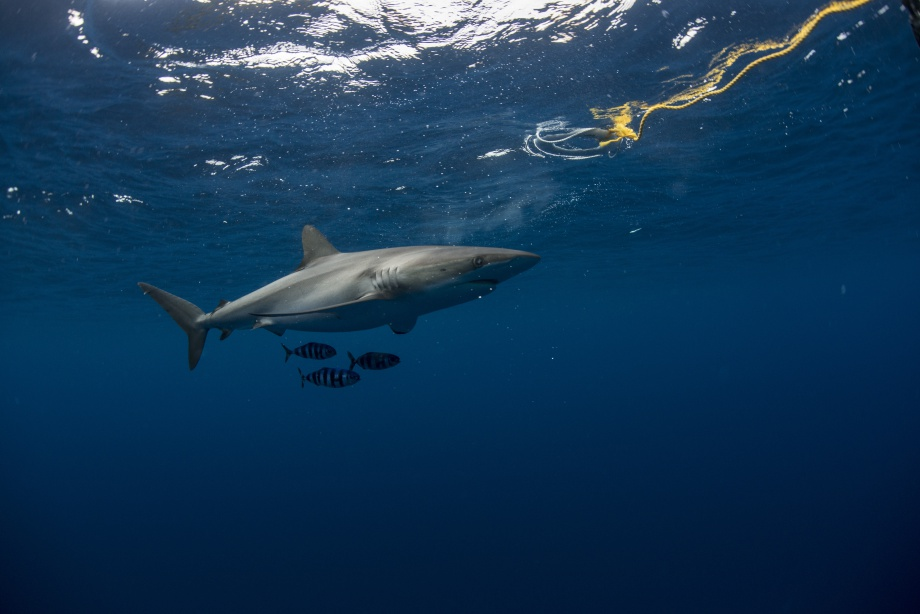Sedoso: (117, 214, 560, 385)
